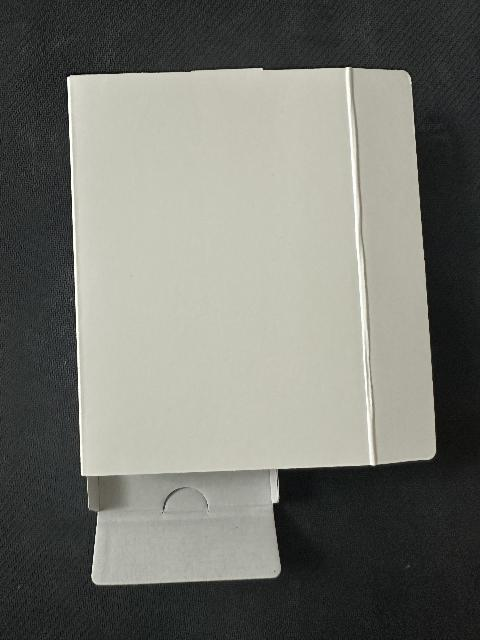Kagit: (64, 65, 438, 591)
